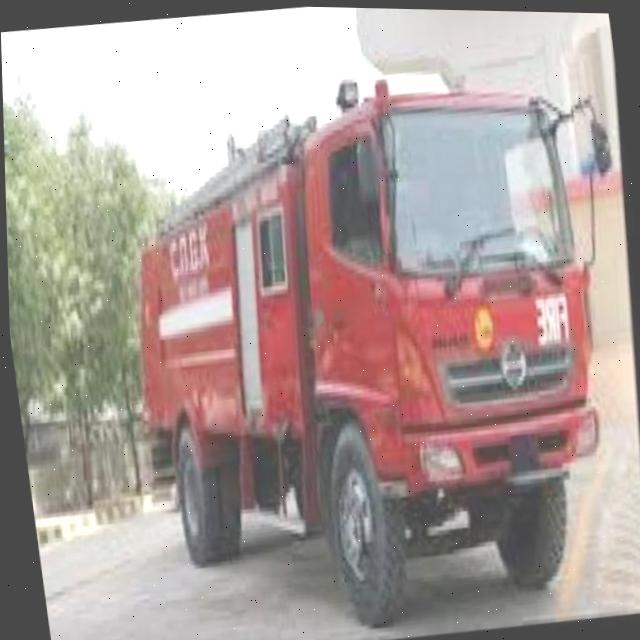emergency: (93, 42, 640, 640)
